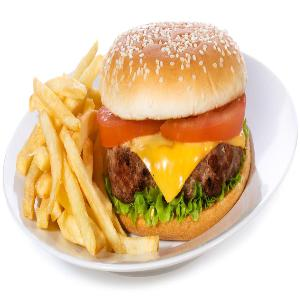cheeseburger: (110, 19, 256, 259)
fries: (16, 34, 115, 275)
